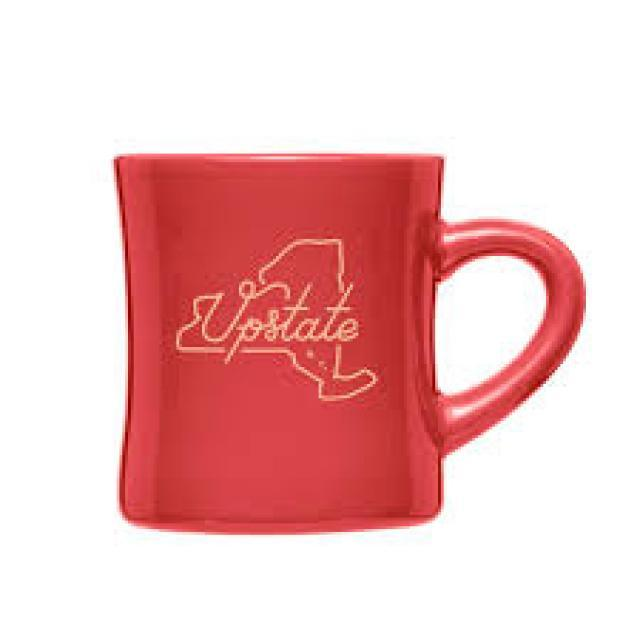taza: (111, 150, 588, 539)
